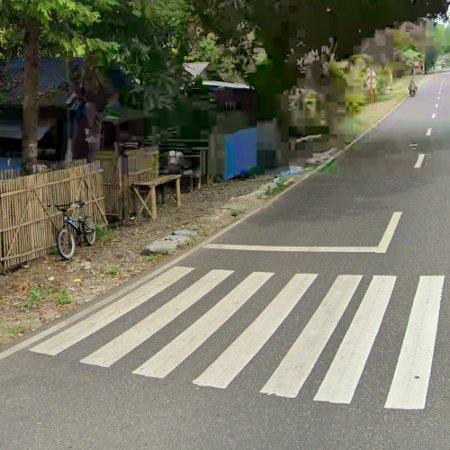crosswalks: (28, 264, 445, 410)
